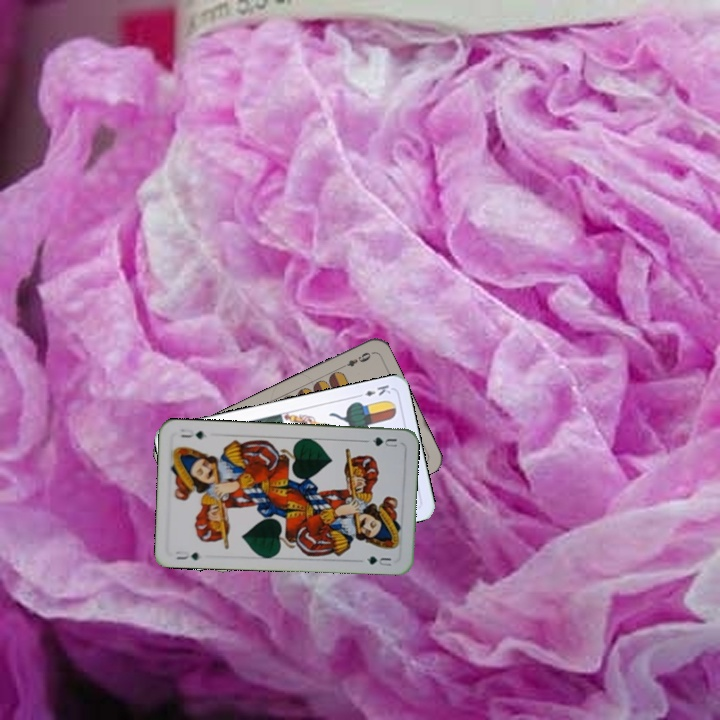E9: (337, 348, 374, 371)
EK: (352, 381, 393, 400)
GU: (362, 433, 400, 450), (172, 548, 202, 562)
